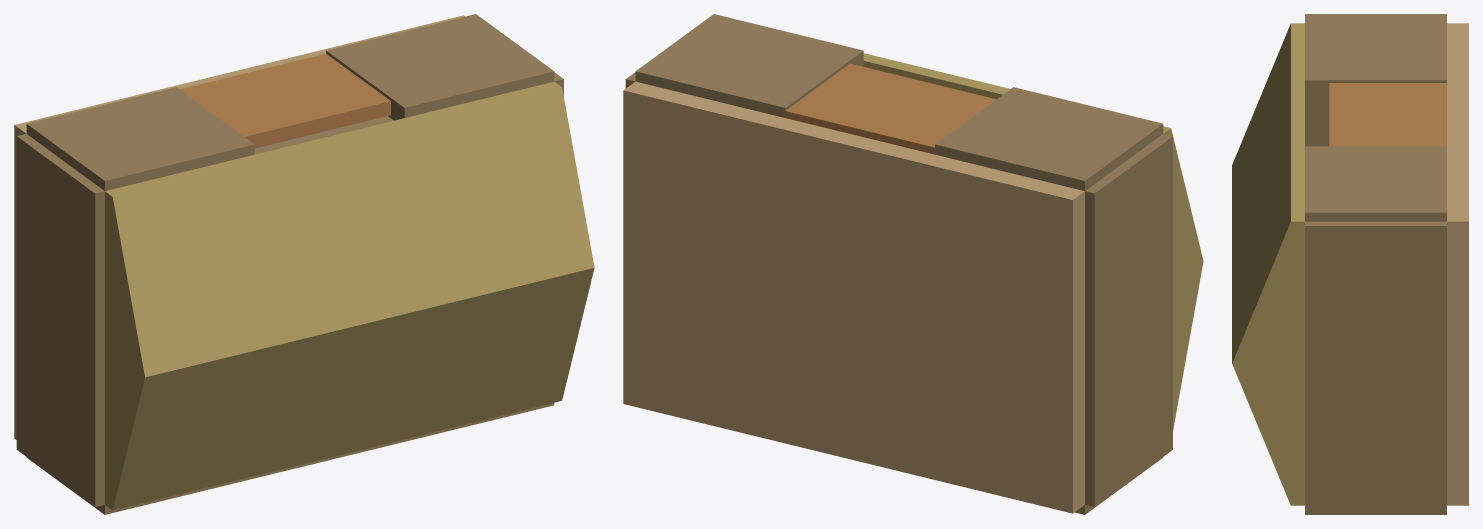
File: meadow-hut.obj
The picture shows the model from 3 angles, left to right: view 1: azimuth 30°, elevation 25°; view 2: azimuth 150°, elevation 25°; view 3: azimuth 270°, elevation 25°; orthographic projection. The views are drawn at different scales.
Visible parts, largest first — view 1: roof_tile0-1, roof_tile2-1, roof_tile1-1, roof_tile0-0, roof_tile2-0, roof_tile1-0, walls_edge4, walls_edge3, walls_edge7, walls_edge8, door_whole, foundation_tile1-1 (+3 smaller); view 2: foundation_tile0-1, foundation_tile2-1, foundation_tile0-0, foundation_tile1-1, foundation_tile2-0, foundation_tile1-0, walls_edge4, walls_edge7, walls_edge3, walls_edge8, door_whole, roof_tile0-1 (+2 smaller); view 3: walls_edge6, walls_edge5, roof_tile2-1, walls_edge8, walls_edge7, door_whole, roof_tile2-0, roof_tile1-1, roof_tile0-1, foundation_tile2-1, foundation_tile2-0, foundation_tile0-1 (+3 smaller).
Part boxes in pixels (box(x1,y1,x2,y2)): roof_tile0-1: box(105, 154, 294, 377); roof_tile2-1: box(405, 81, 594, 304); roof_tile1-1: box(255, 118, 444, 340); roof_tile0-0: box(105, 341, 294, 510); roof_tile2-0: box(412, 268, 594, 437); roof_tile1-0: box(262, 304, 444, 473); walls_edge4: box(16, 134, 104, 350); walls_edge3: box(16, 293, 104, 506); walls_edge7: box(26, 87, 254, 190); walls_edge8: box(326, 14, 554, 120); door_whole: box(180, 54, 390, 148); foundation_tile1-1: box(164, 52, 325, 154); foundation_tile0-1: box(923, 154, 1084, 356); foundation_tile2-1: box(623, 81, 784, 283); foundation_tile0-0: box(923, 320, 1084, 513); foundation_tile1-1: box(773, 118, 934, 320); foundation_tile2-0: box(623, 247, 773, 440); foundation_tile1-0: box(773, 284, 922, 476); walls_edge4: box(1085, 134, 1172, 350); walls_edge7: box(935, 87, 1163, 190); walls_edge3: box(1085, 293, 1172, 506); walls_edge8: box(635, 14, 863, 117); door_whole: box(785, 63, 996, 154); roof_tile0-1: box(1163, 126, 1203, 283); walls_edge6: box(1305, 221, 1446, 367); walls_edge5: box(1305, 368, 1446, 509); roof_tile2-1: box(1232, 155, 1304, 363); walls_edge8: box(1305, 146, 1446, 221); walls_edge7: box(1305, 14, 1446, 98); door_whole: box(1329, 83, 1446, 146); roof_tile2-0: box(1232, 363, 1304, 505); roof_tile1-1: box(1232, 89, 1304, 297); roof_tile0-1: box(1232, 23, 1304, 230); foundation_tile2-1: box(1447, 155, 1468, 363); foundation_tile2-0: box(1447, 363, 1468, 505); foundation_tile0-1: box(1447, 23, 1468, 89).
Size of the model in its own units: 3.13 by 2.13 by 1.51.
